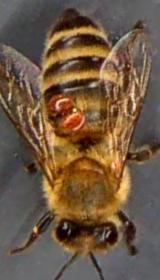varroa_mite: (52, 101, 98, 137), (44, 78, 80, 116)
